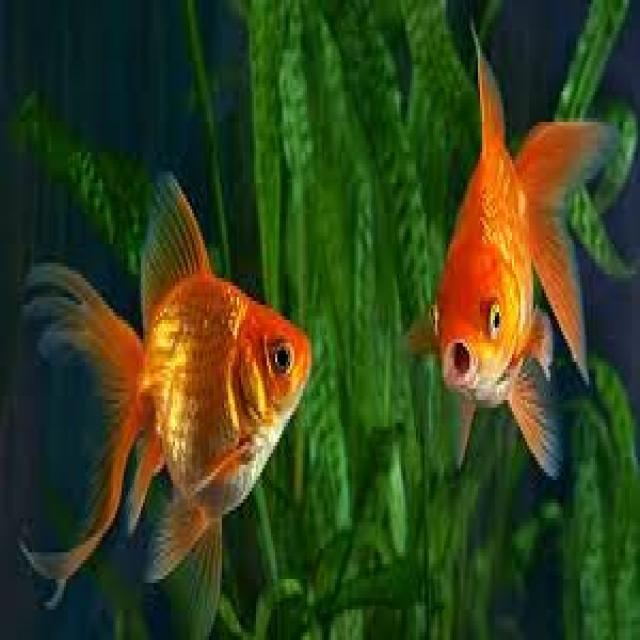goldfish: (18, 172, 321, 608), (430, 51, 620, 498)
